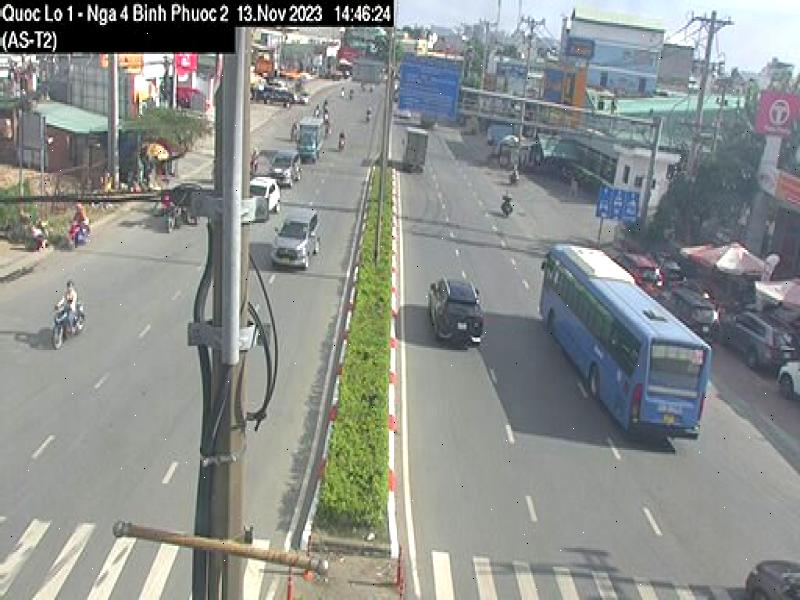bus: (539, 241, 708, 445)
